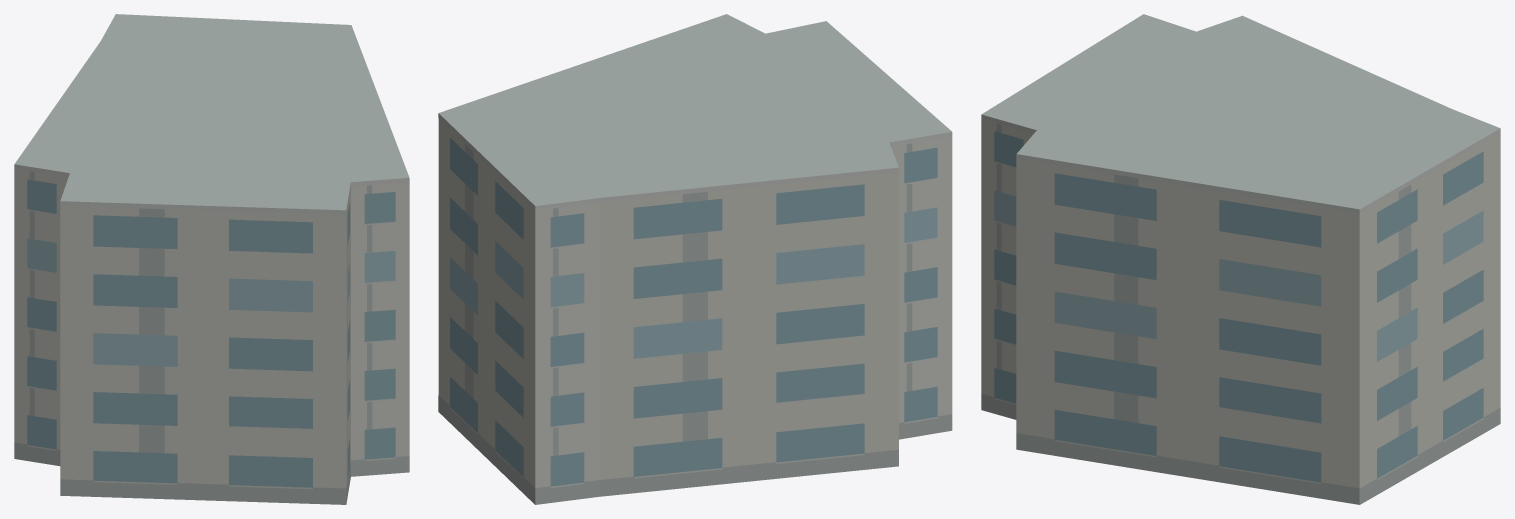
The model's file is survey-upis-32509684.glb.
The picture shows the model from 3 angles, left to right: view 1: azimuth 30°, elevation 25°; view 2: azimuth 150°, elevation 25°; view 3: azimuth 270°, elevation 25°; orthographic projection.
Visible parts, largest first — view 1: survey-upis-32509684.tmp; view 2: survey-upis-32509684.tmp; view 3: survey-upis-32509684.tmp.
Part boxes in pixels (x1,y1,x2,y2): survey-upis-32509684.tmp: (14,14,409,504); survey-upis-32509684.tmp: (438,14,952,504); survey-upis-32509684.tmp: (981,14,1500,504).
Bounding box in the file's own units: 21.62 × 15.25 × 24.29.
